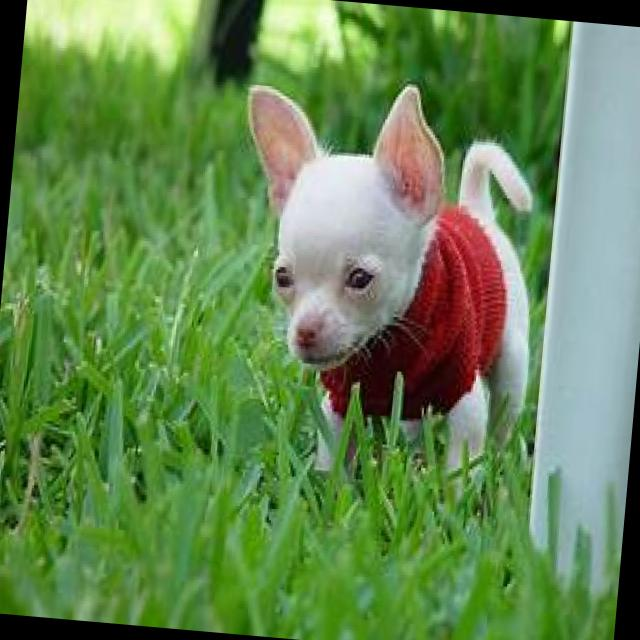animal: (212, 79, 554, 492)
